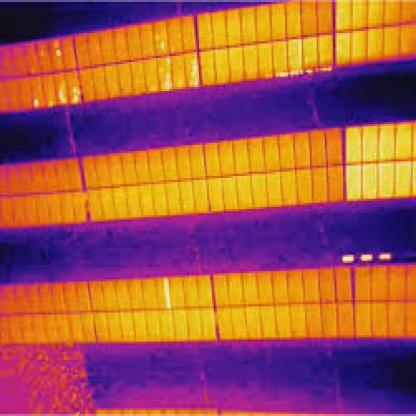Defects: (162, 278, 172, 309)
